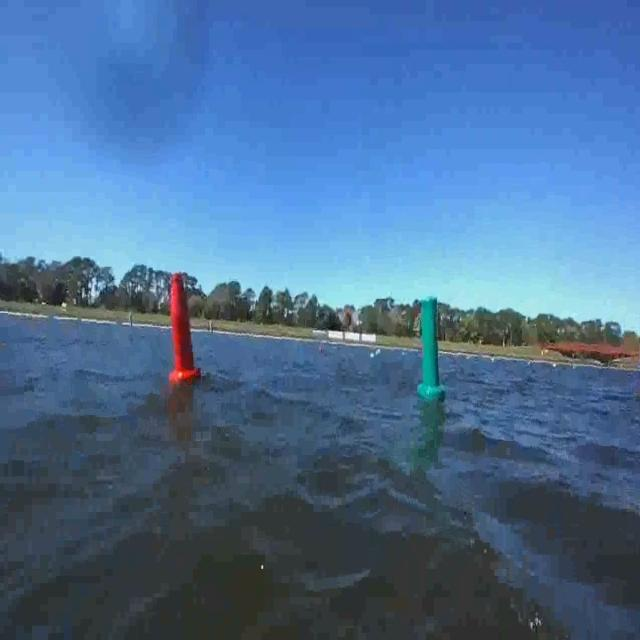green-column-buoy: (417, 291, 447, 401)
red-column-buoy: (168, 270, 202, 383)
